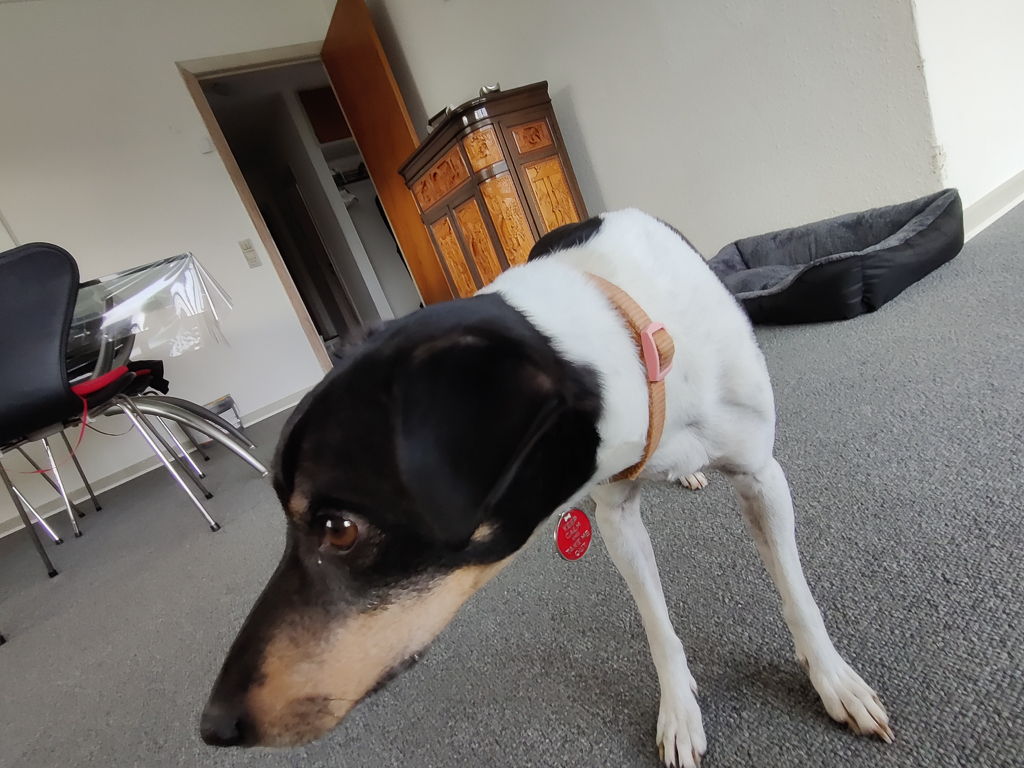Dog: (180, 198, 916, 768)
